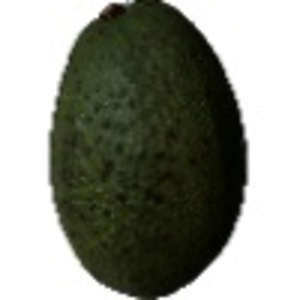abacate: (48, 1, 247, 297)
